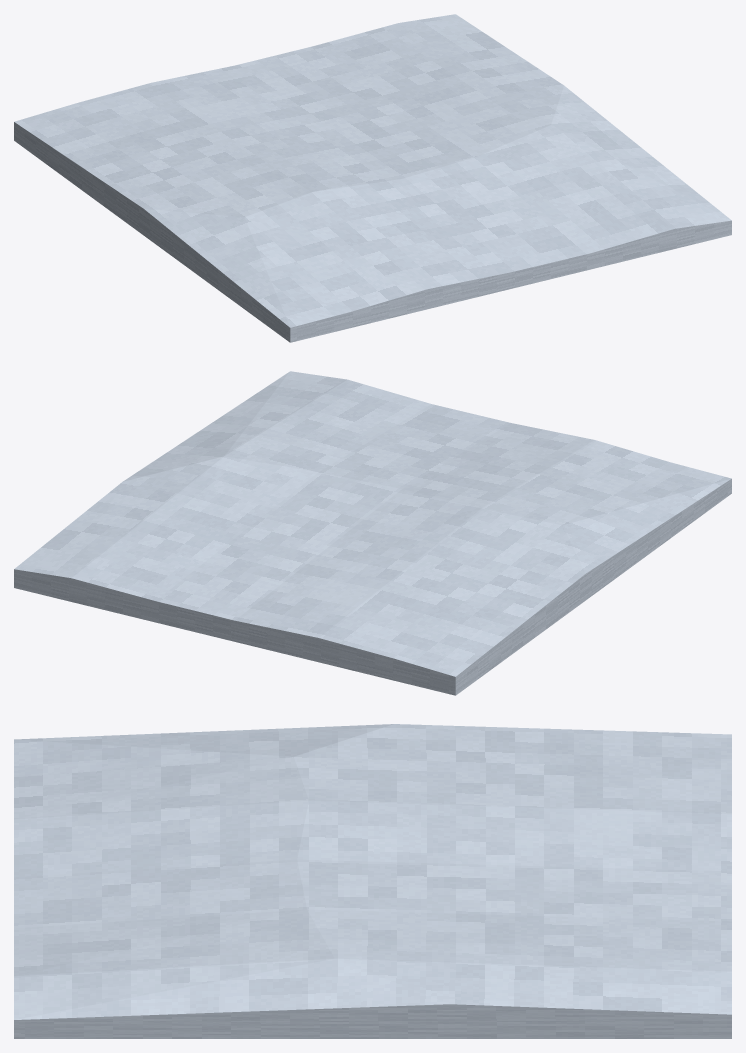
The model's file is snow_awning.glb.
The picture shows the model from 3 angles, top to bottom: view 1: azimuth 30°, elevation 25°; view 2: azimuth 150°, elevation 25°; view 3: azimuth 270°, elevation 25°; orthographic projection. The views are drawn at different scales.
Parts seen in each view (by area): view 1: snow_awning; view 2: snow_awning; view 3: snow_awning.
Boxes of the visible parts, bbox=[...] form: snow_awning: bbox=[14, 14, 731, 342]; snow_awning: bbox=[14, 371, 731, 695]; snow_awning: bbox=[14, 724, 731, 1038].
Size of the model in its own units: 2.4 by 0.18 by 2.6.
Materials: 1 (1 with a texture image).
